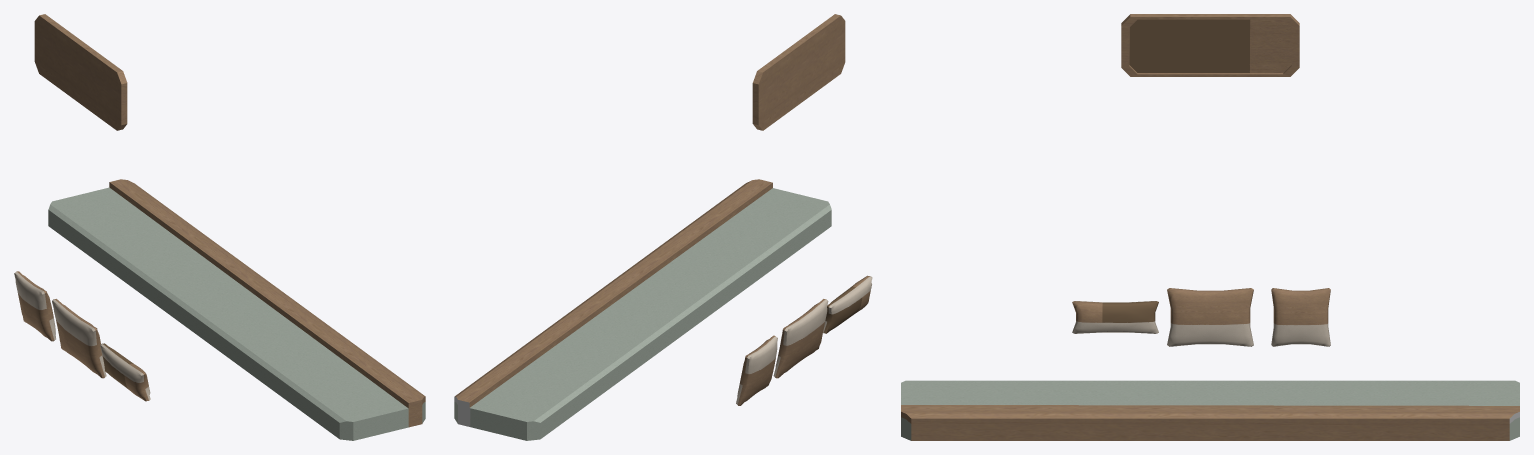
Rendered from outside stuff.fbx.
3 renders of one model, left to right at view 1: azimuth 30°, elevation 25°; view 2: azimuth 150°, elevation 25°; view 3: azimuth 270°, elevation 25°, orthographic. The views are drawn at different scales.
Visible parts, largest first — view 1: pCube1, pCube2, pillow, pillow2, pillow3; view 2: pCube1, pCube2, pillow, pillow2, pillow3; view 3: pCube1, pCube2, pillow, pillow2, pillow3.
Part boxes in pixels (box(x1,y1,x2,y2)): pCube1: box(48, 179, 425, 440); pCube2: box(34, 14, 127, 130); pillow: box(52, 299, 106, 378); pillow2: box(14, 271, 55, 341); pillow3: box(100, 343, 150, 401); pCube1: box(454, 179, 831, 440); pCube2: box(752, 14, 845, 130); pillow: box(773, 299, 828, 378); pillow2: box(736, 335, 777, 405); pillow3: box(823, 275, 872, 333); pCube1: box(901, 380, 1519, 440); pCube2: box(1121, 14, 1299, 76); pillow: box(1167, 288, 1253, 346); pillow2: box(1271, 288, 1330, 346); pillow3: box(1072, 301, 1158, 333).
Size of the model in its own units: 4.61 by 6.74 by 11.47.
